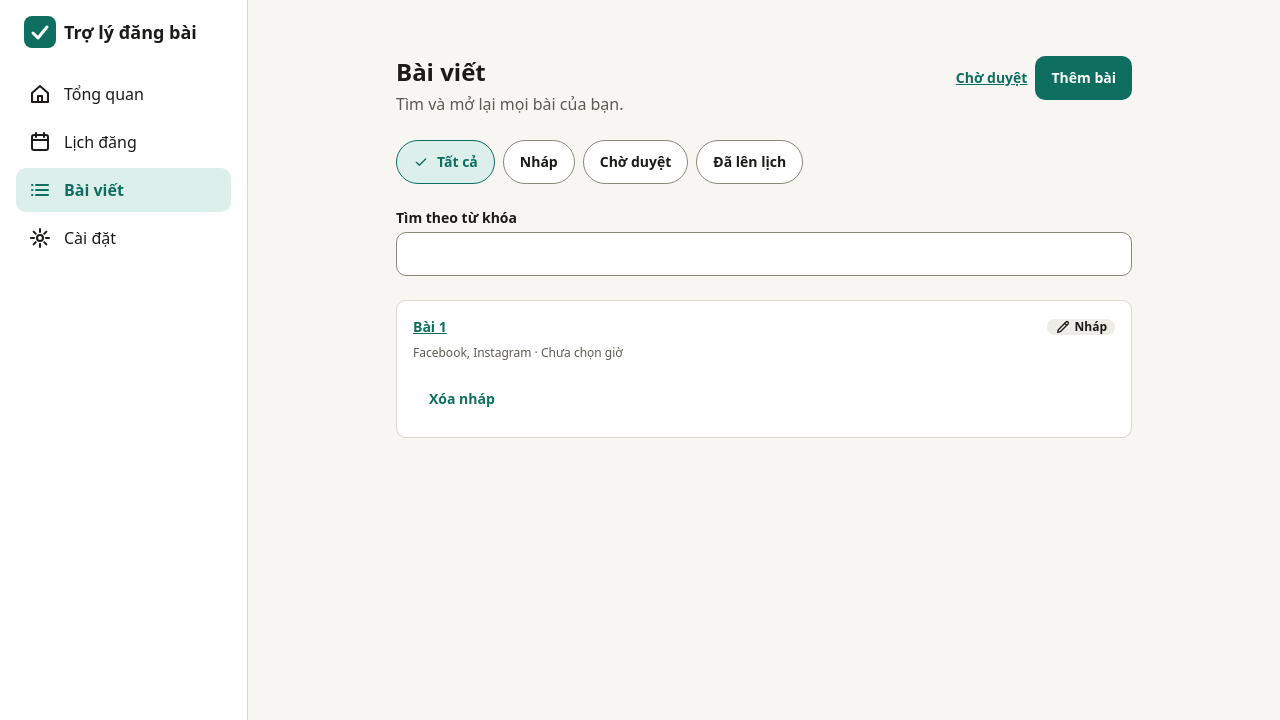
Scenario: PostsListPage › xóa nháp có hộp xác nhận → DELETE đúng phiên bản
Later steps or results of the test are not shown.
Check: the link "Bài 1" is shown, box [413, 317, 447, 337]
Click the button "Xóa nháp" at (462, 399), box [413, 377, 511, 421]
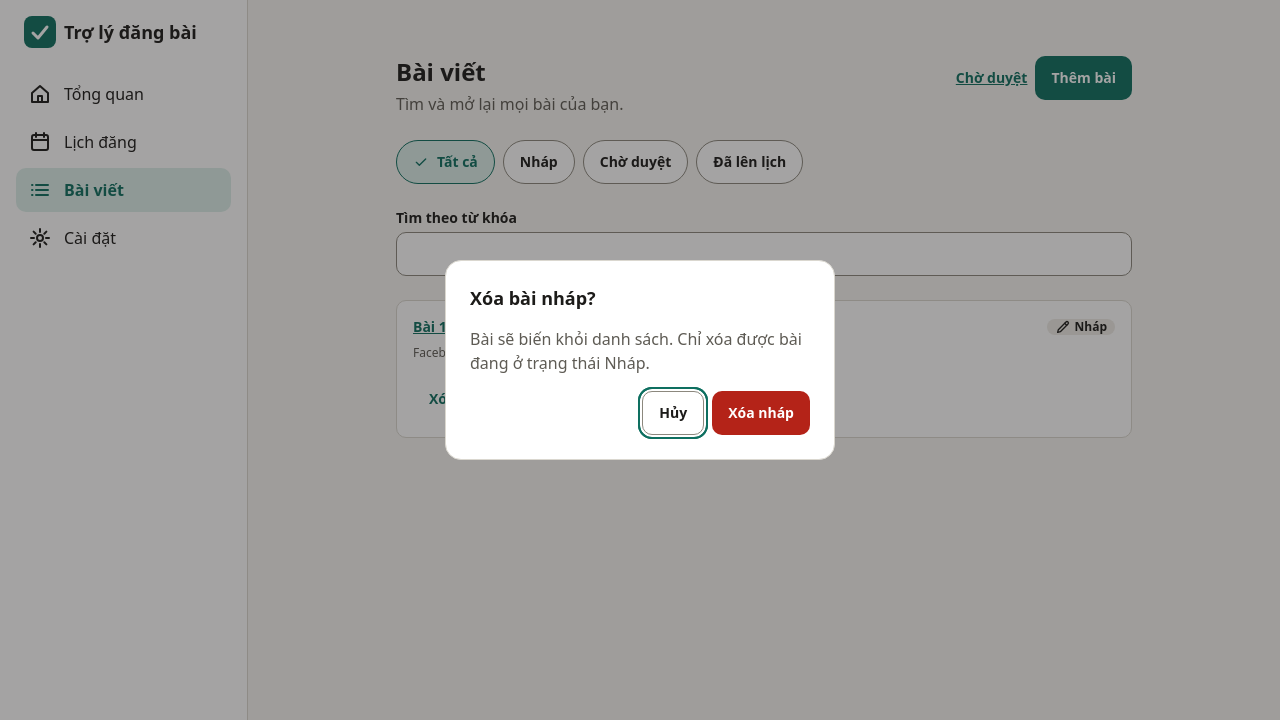
Check: the heading "Xóa bài nháp?" is shown, box [470, 286, 596, 310]
